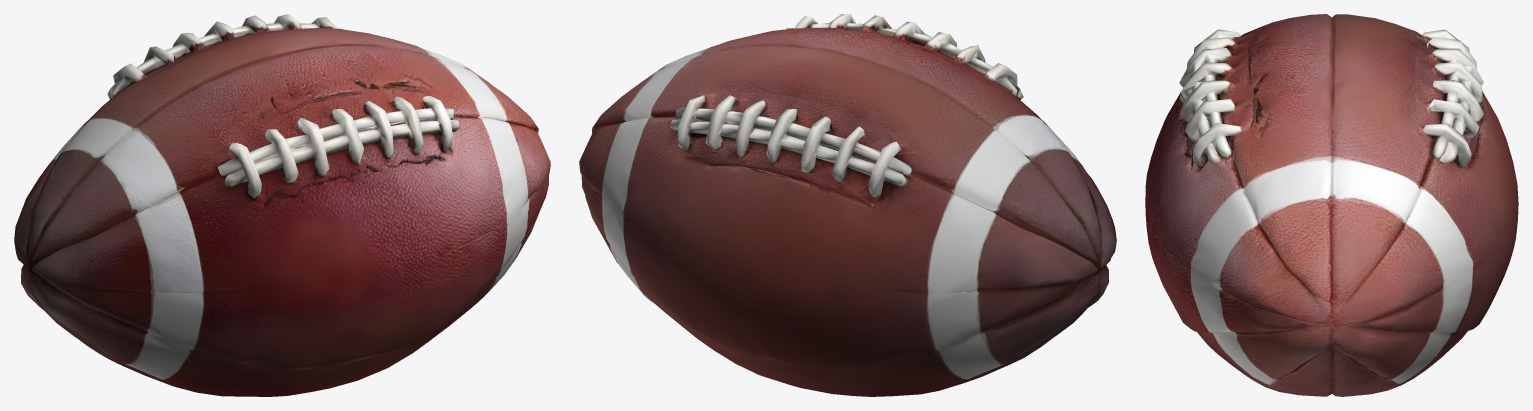
Rendered from ball-football.glb.
3 renders of one model, left to right at view 1: azimuth 30°, elevation 25°; view 2: azimuth 150°, elevation 25°; view 3: azimuth 270°, elevation 25°, orthographic.
Parts seen in each view (by area): view 1: tripo_node_508c3c3d-5cdc-496b-8789-1cdfd6a2ff97; view 2: tripo_node_508c3c3d-5cdc-496b-8789-1cdfd6a2ff97; view 3: tripo_node_508c3c3d-5cdc-496b-8789-1cdfd6a2ff97.
Part boxes in pixels (x1,y1,x2,y2): tripo_node_508c3c3d-5cdc-496b-8789-1cdfd6a2ff97: [14, 14, 550, 396]; tripo_node_508c3c3d-5cdc-496b-8789-1cdfd6a2ff97: [579, 14, 1116, 396]; tripo_node_508c3c3d-5cdc-496b-8789-1cdfd6a2ff97: [1145, 14, 1518, 396].
Size of the model in its own units: 0.984 by 0.5915 by 0.6354.
1 material, 1 textured.
